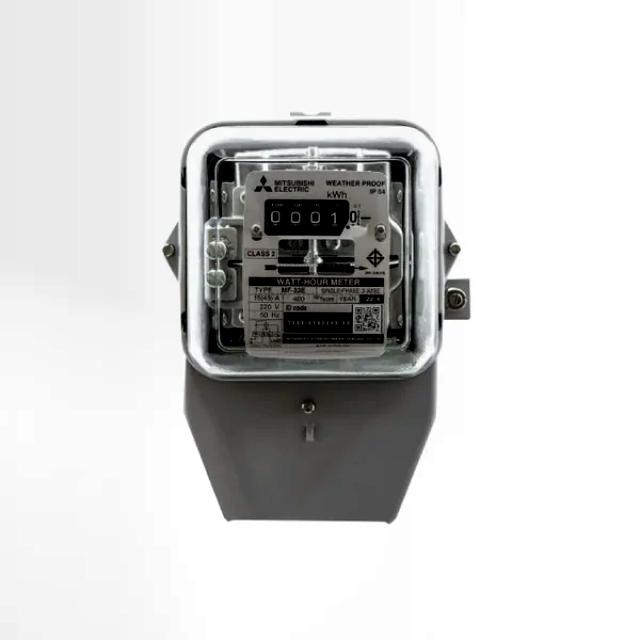digit_area: (265, 205, 364, 231)
